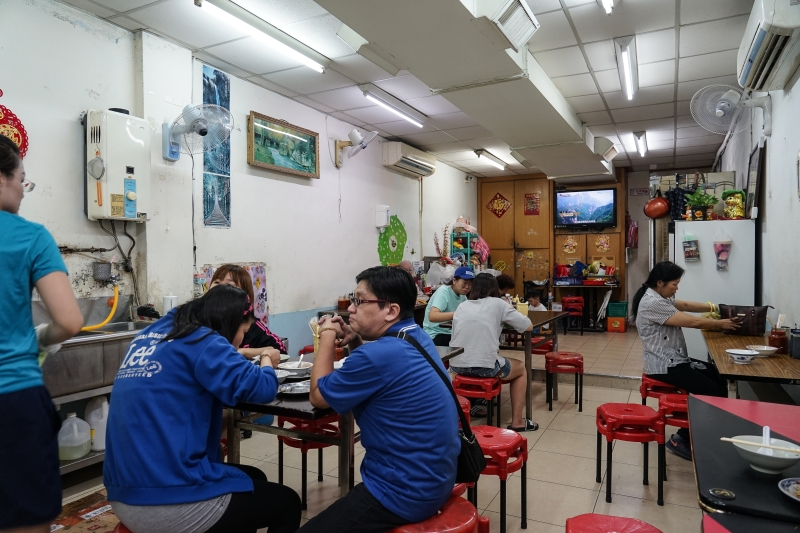people: (107, 287, 303, 533), (304, 268, 469, 533), (1, 137, 78, 533), (630, 258, 729, 457), (459, 278, 541, 432)
